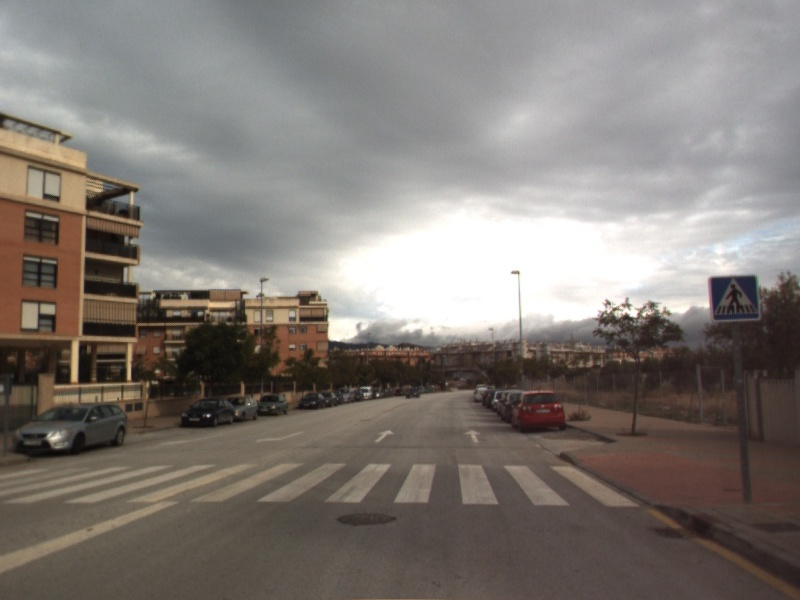STRAIGHT: (373, 428, 396, 444), (462, 428, 483, 444)
